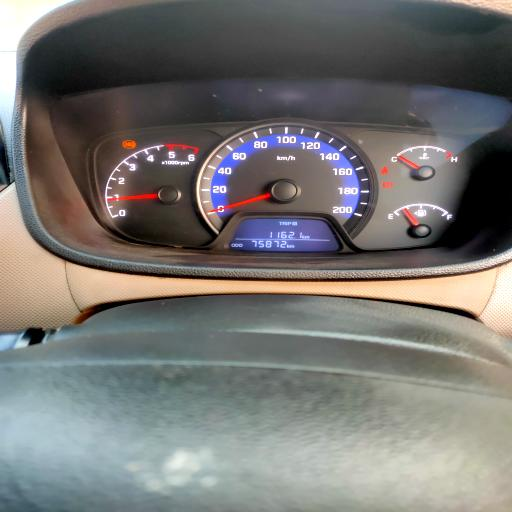belt: (380, 166, 389, 176)
brake_system_fault: (382, 181, 393, 188)
tachometer: (105, 144, 198, 220)
